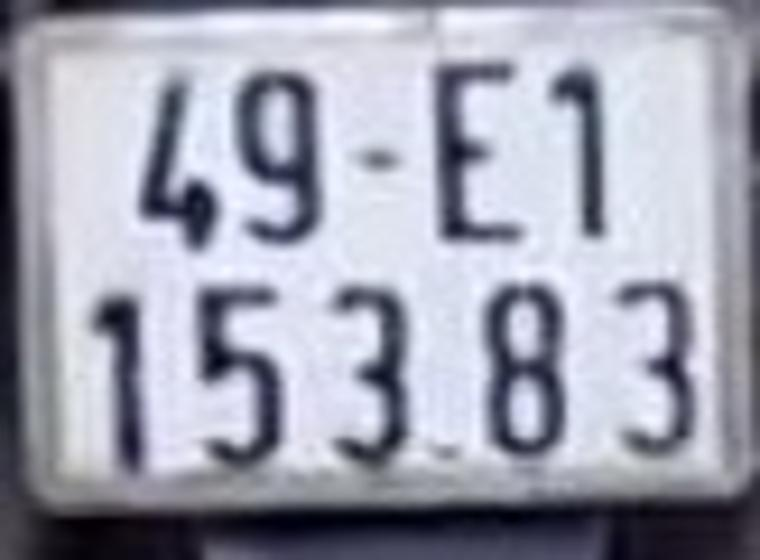-: (355, 151, 399, 169)
.: (435, 444, 457, 462)
1: (88, 295, 146, 471), (551, 63, 608, 239)
3: (612, 277, 695, 457), (330, 285, 409, 462)
4: (140, 77, 214, 256)
5: (195, 287, 282, 463)
8: (484, 281, 567, 455)
9: (239, 71, 320, 245)
E: (432, 65, 524, 242)
